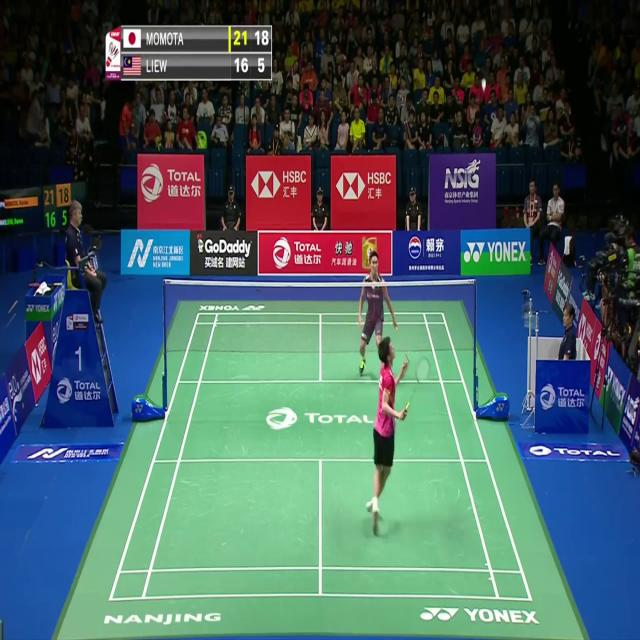Shuttlecock: (480, 79, 486, 90)
